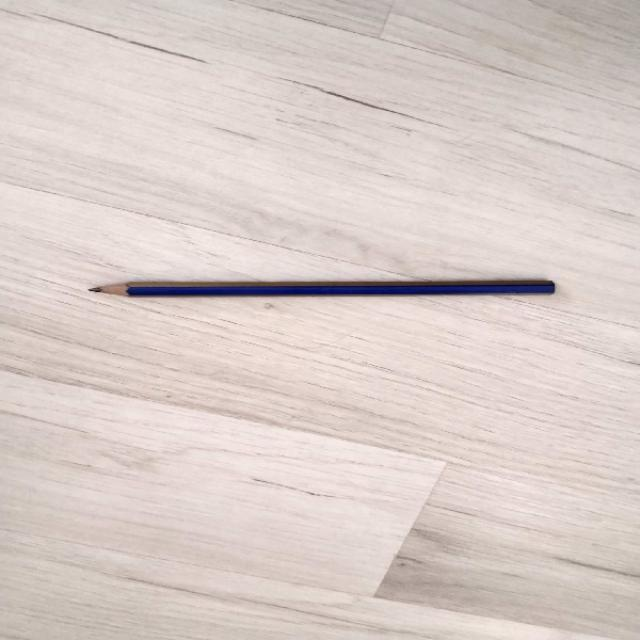pencil: (90, 281, 554, 296)
